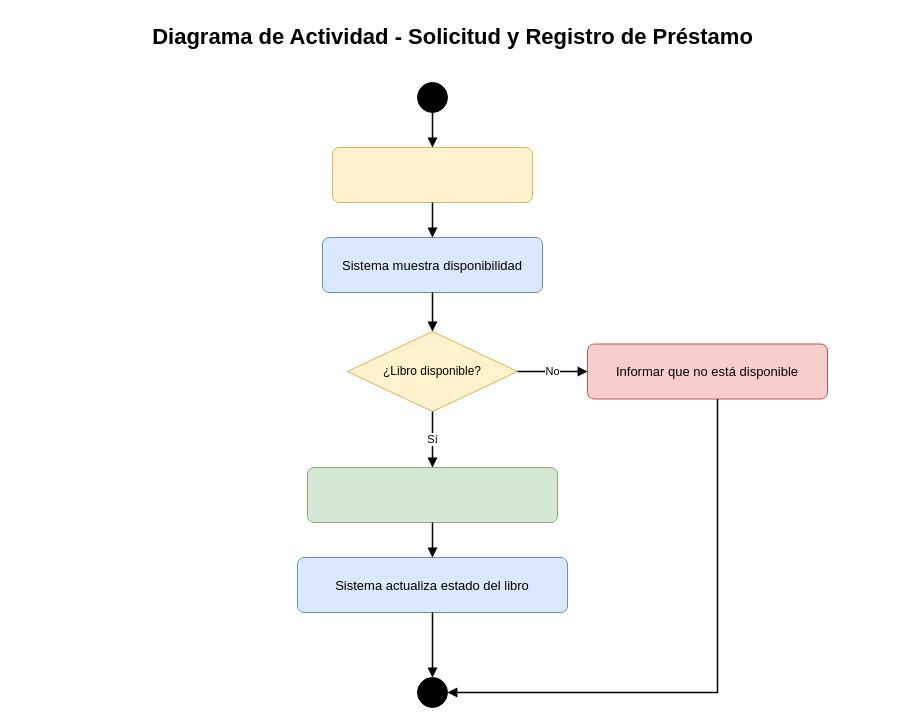
Some shapes in this 904 by 725 pixel diagram are drawn without their labels. The shapes that lost their labels are listed below. From the top down, each one's centre as x and y in pixels, then its label:
At pixel 432 174: "Usuario consulta catálogo".
At pixel 432 494: "Bibliotecario registra préstamo".
